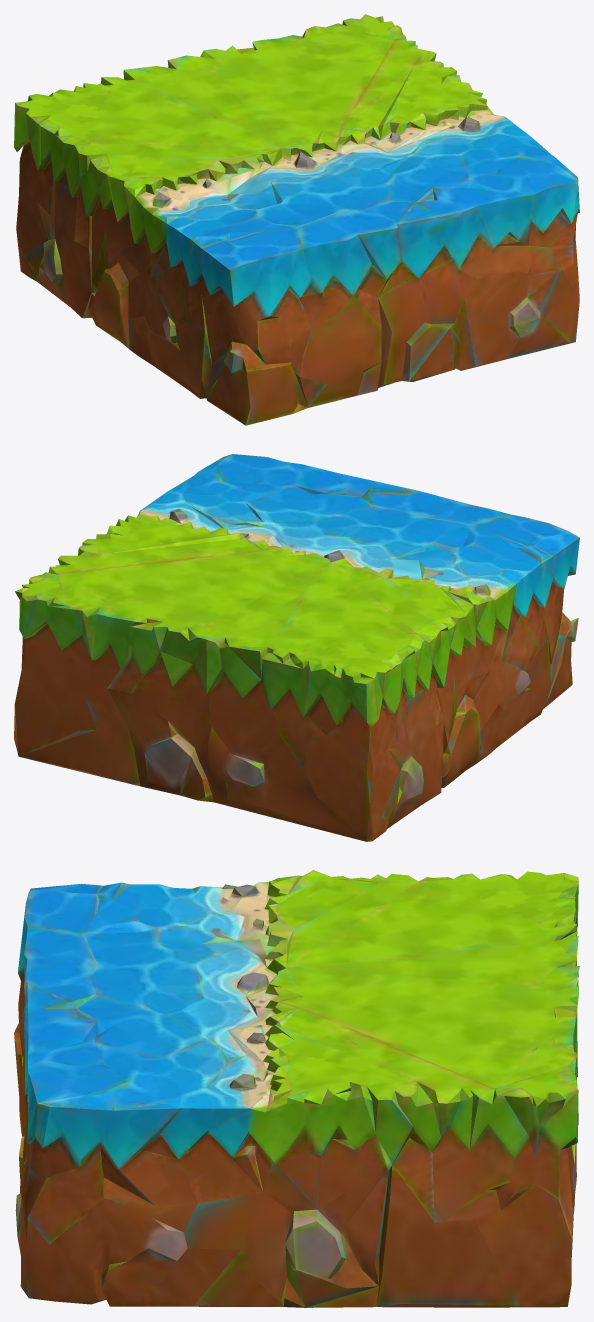
File: water-shore-straight.glb
The picture shows the model from 3 angles, top to bottom: view 1: azimuth 30°, elevation 25°; view 2: azimuth 150°, elevation 25°; view 3: azimuth 270°, elevation 25°; orthographic projection. The views are drawn at different scales.
Visible parts, largest first — view 1: output_unwrapped; view 2: output_unwrapped; view 3: output_unwrapped.
Part boxes in pixels (x1,y1,x2,y2): output_unwrapped: (14, 14, 579, 425); output_unwrapped: (14, 454, 579, 841); output_unwrapped: (14, 870, 579, 1307).
Bounding box in the file's own units: 1.86 × 0.8023 × 1.9.
1 material, 1 textured.
